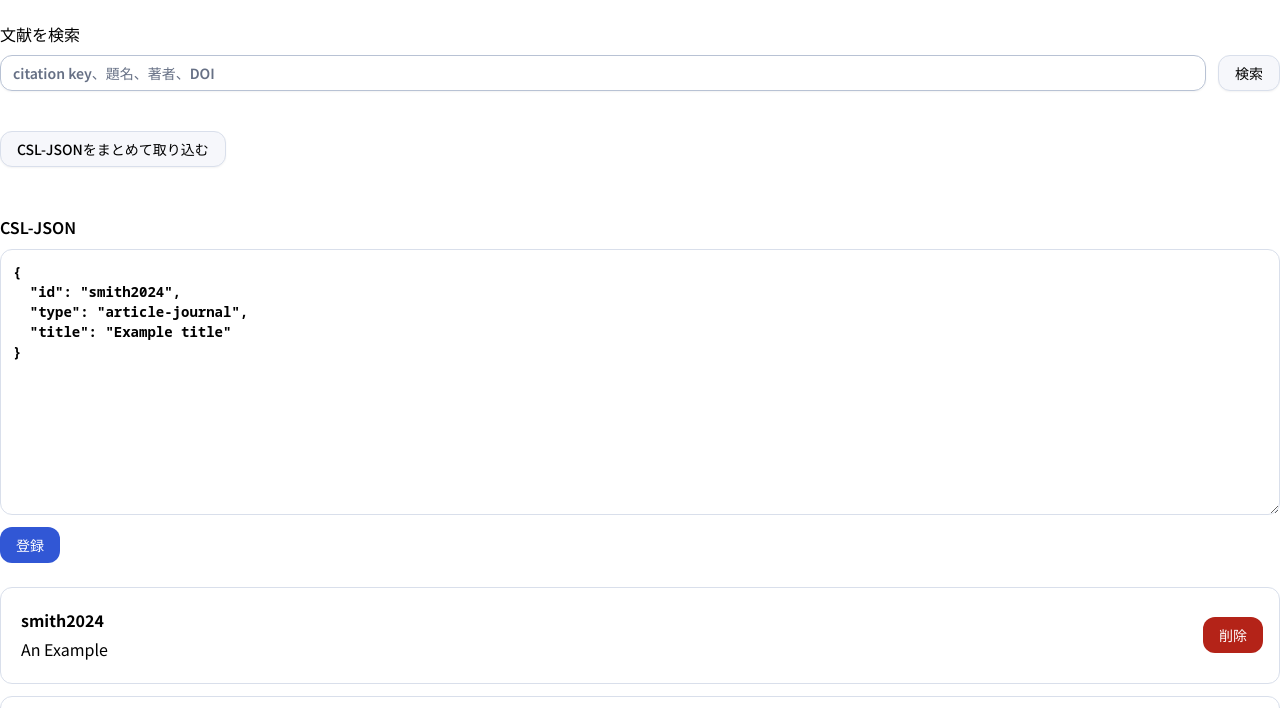
Test: 成功の知らせと失敗を、役割と見た目で区別する
Note: 成功の知らせは待つだけでよいため、控えめに伝える。
Click the button "smith2024 An Example".
click(64, 635)  # box top-left (17, 604), bottom-right (112, 667)
(page scrolled)
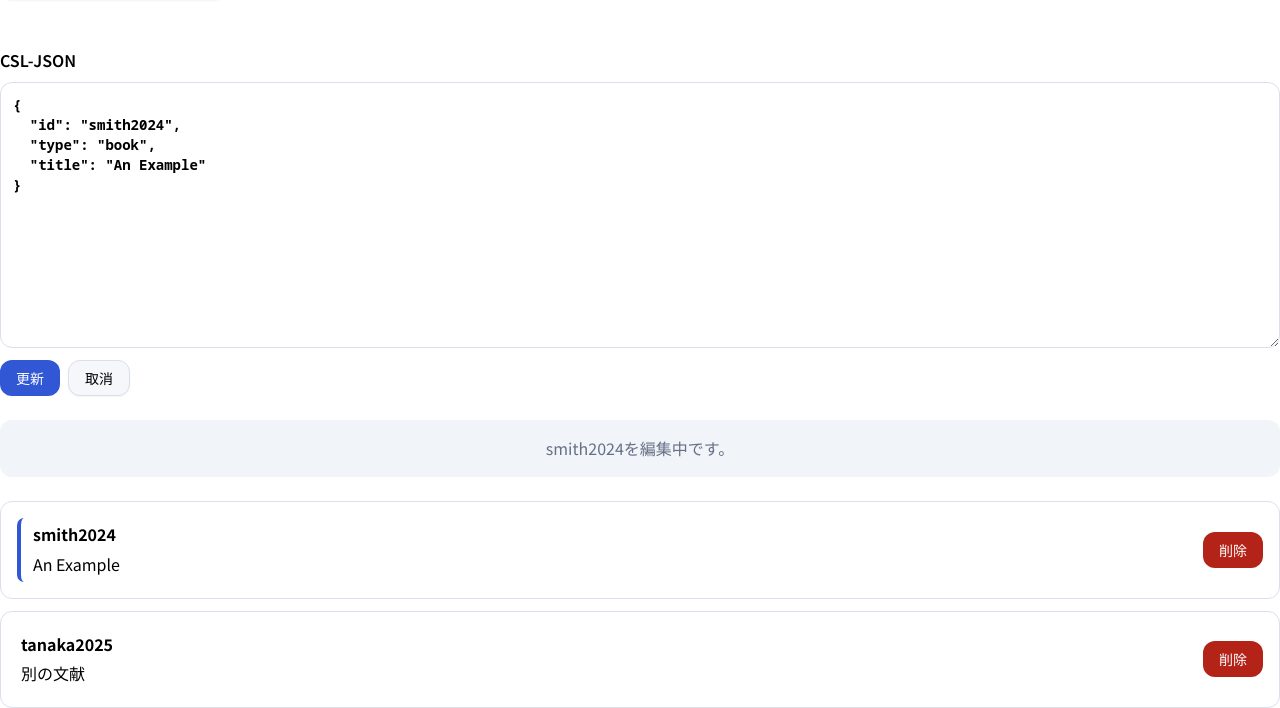
Now the message shows "編集中です", box top-left (546, 436), bottom-right (734, 460)
Note: 失敗は利用者の対応が要るため、割り込んで伝える。
Click the 1st button "削除".
click(1233, 550)  # box top-left (1203, 532), bottom-right (1263, 568)
(page scrolled)
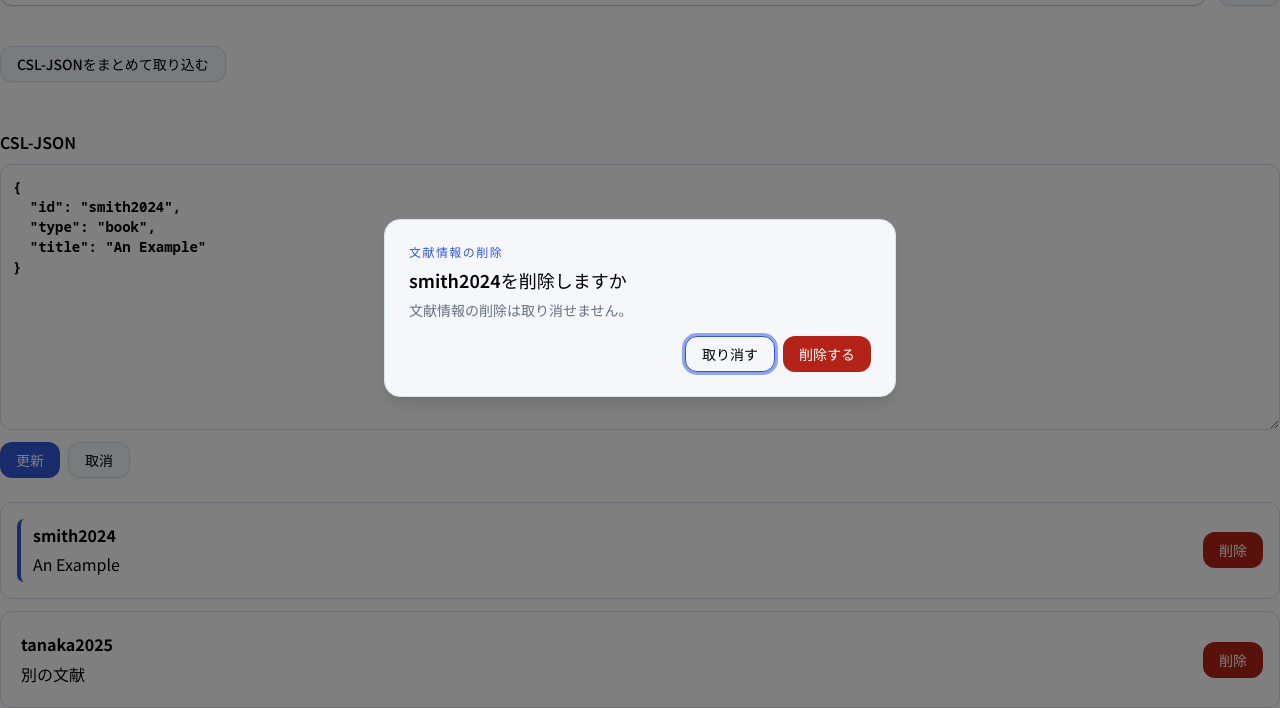
Now the dialog shows "文献情報の削除は取り消せません", box top-left (409, 300), bottom-right (633, 320)
Click the button "削除する".
click(827, 354)  # box top-left (783, 336), bottom-right (871, 372)
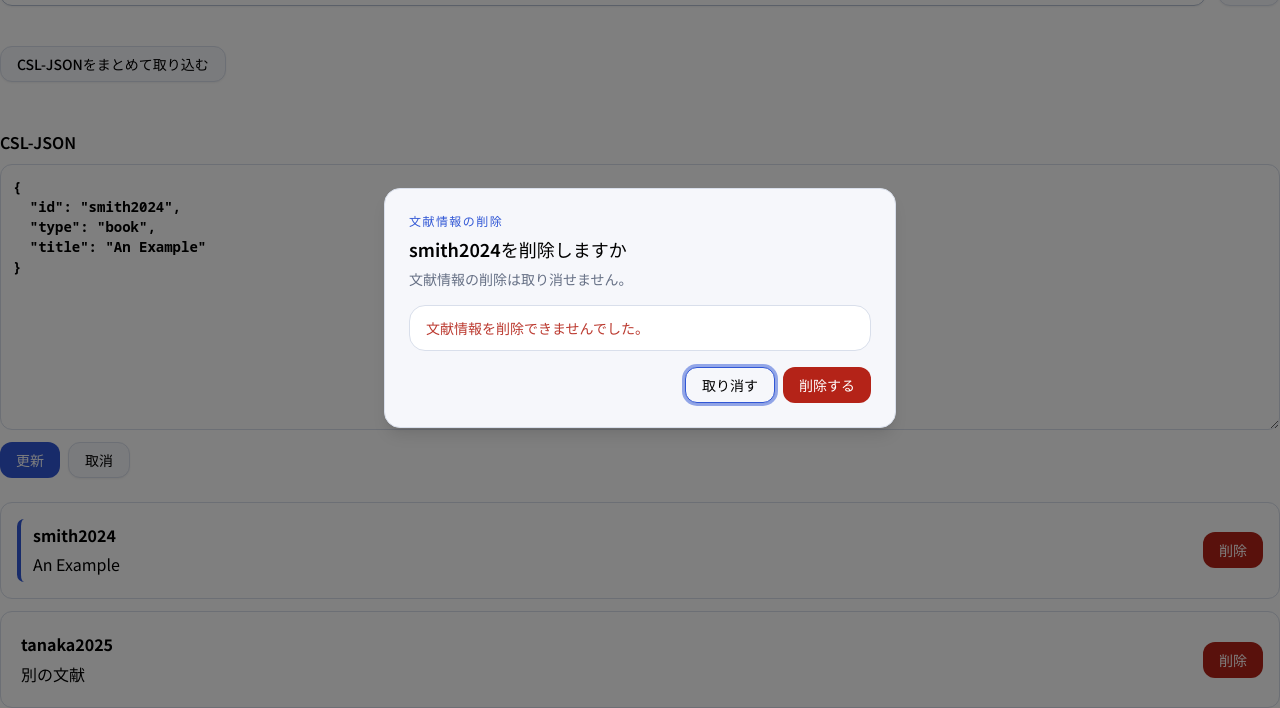
Now the message shows "削除できませんでした", box top-left (426, 318), bottom-right (649, 338)
